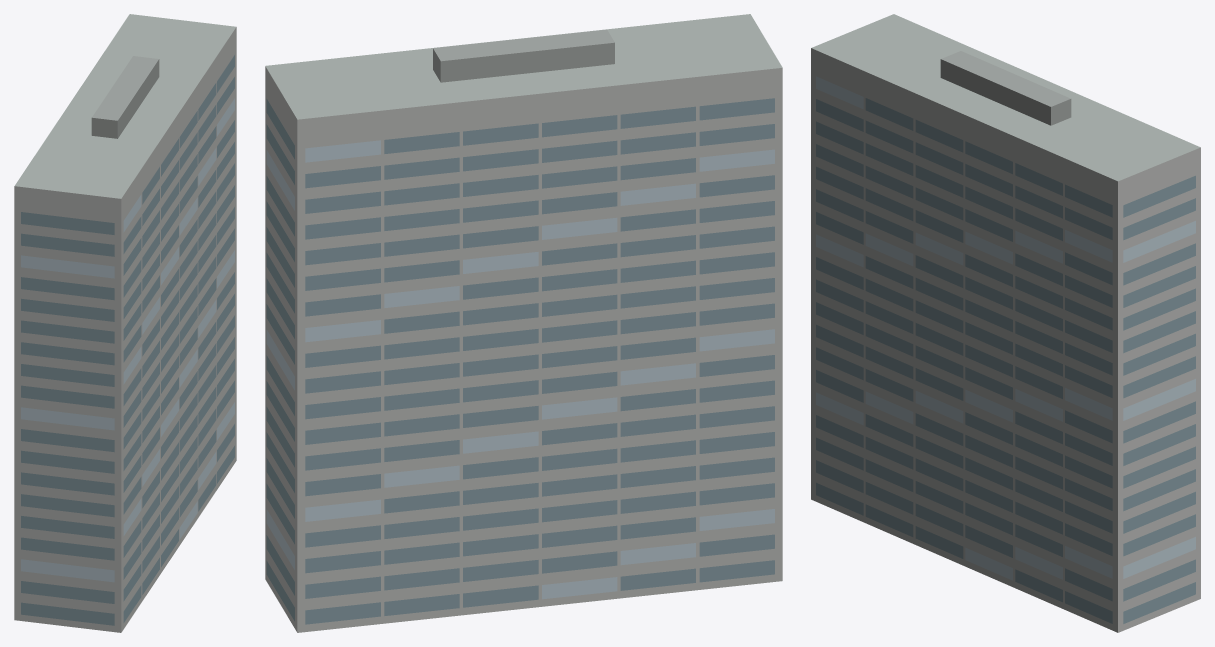
Rendered from fallback-raemian-blesstige-205.glb.
3 renders of one model, left to right at view 1: azimuth 30°, elevation 25°; view 2: azimuth 150°, elevation 25°; view 3: azimuth 270°, elevation 25°, orthographic. The views are drawn at different scales.
Parts seen in each view (by area): view 1: fallback-raemian-blesstige-205; view 2: fallback-raemian-blesstige-205; view 3: fallback-raemian-blesstige-205.
Boxes of the visible parts, x1,y1,x2,y2 form: fallback-raemian-blesstige-205: (14,14,236,632); fallback-raemian-blesstige-205: (265,14,782,632); fallback-raemian-blesstige-205: (811,14,1200,632).
Size of the model in its own units: 45.81 by 60 by 45.06.
